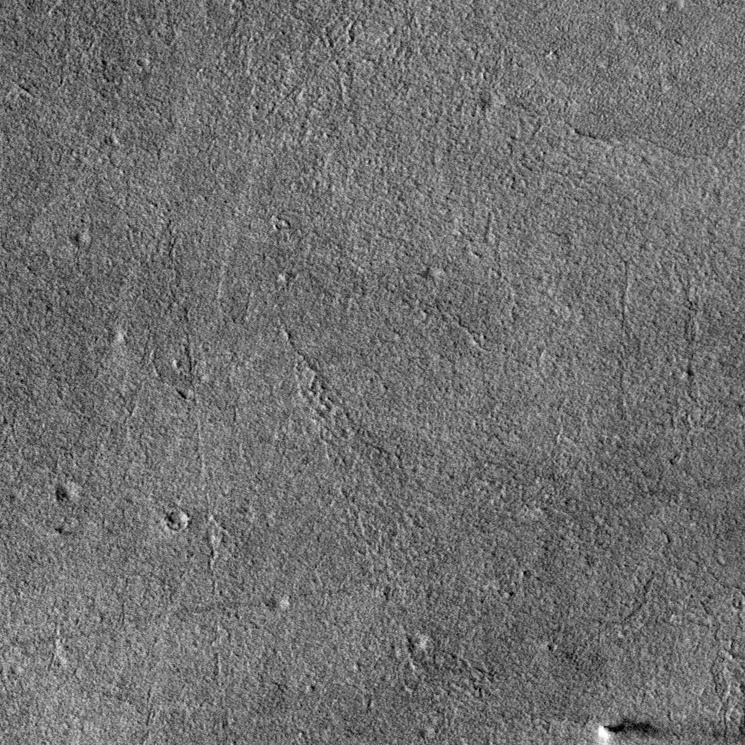dust_devil: (593, 718, 680, 745)
